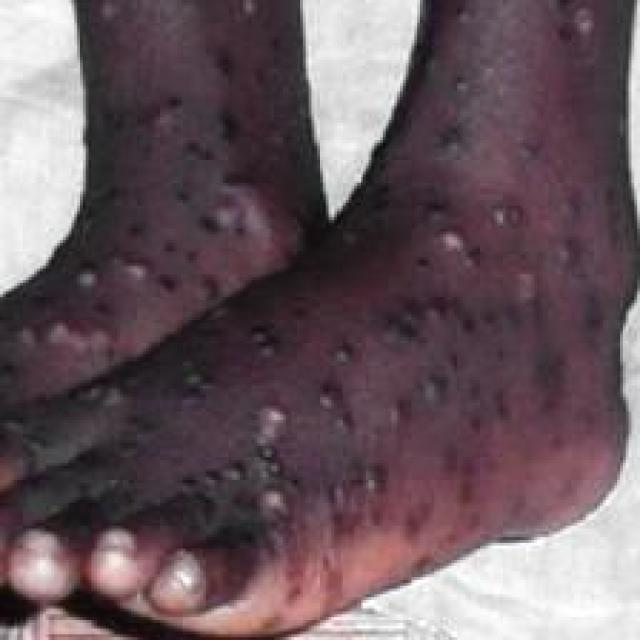monkeypox: (14, 4, 629, 626)
